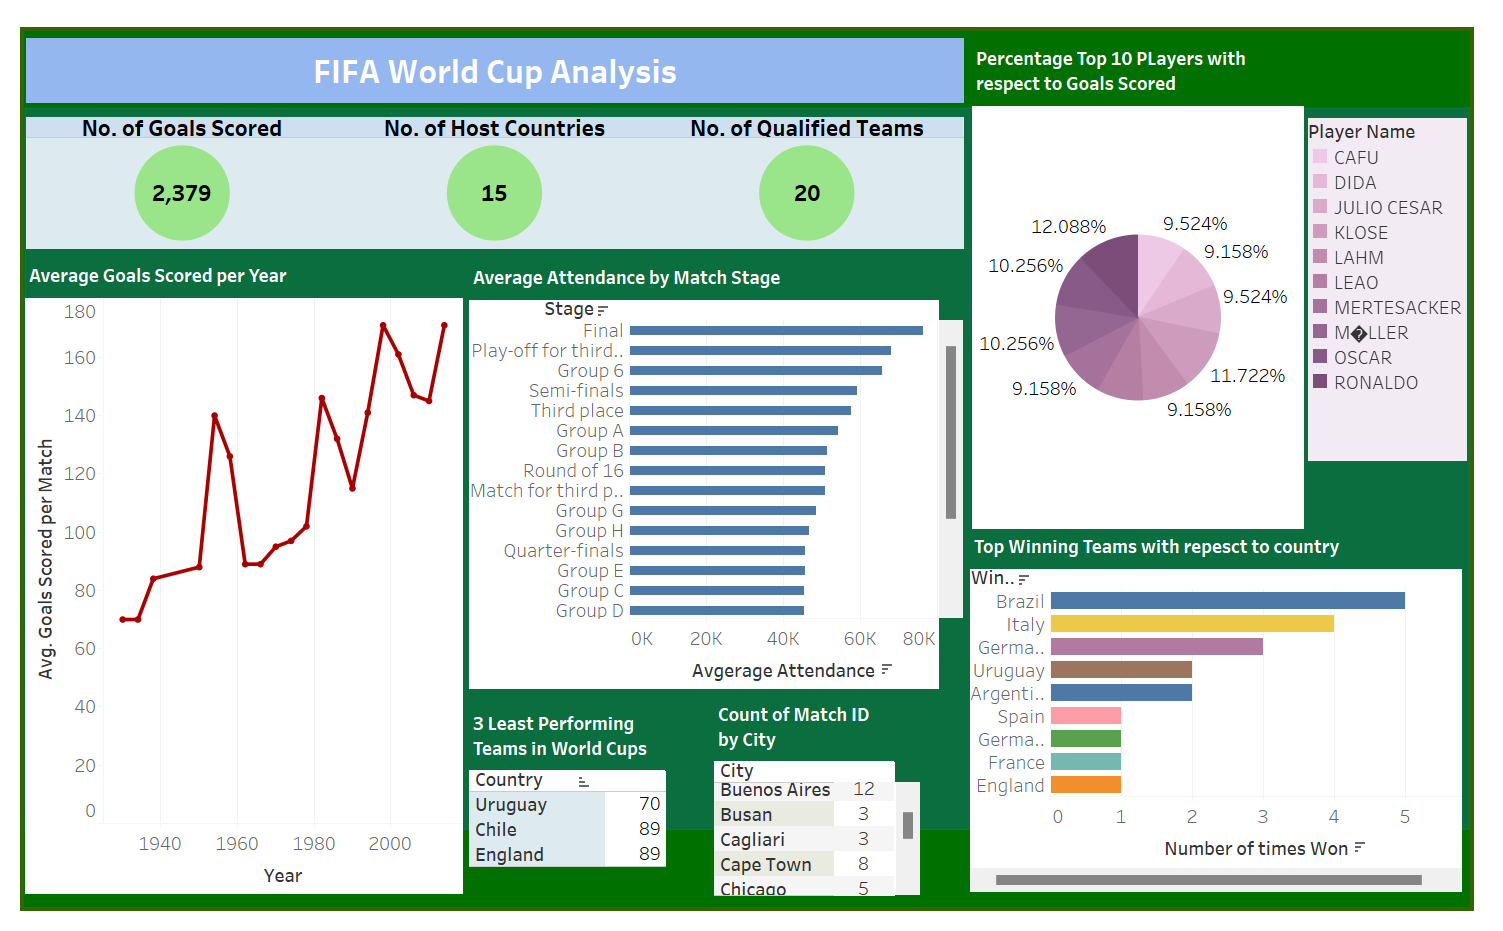

Layout of this report page (visuals, bound fields, positions):
{"tool":"tableau","page":{"name":"Dashboard 1","canvas":[1000,1000],"units":"permille","ordinal":0},"visuals":[{"type":"image","param":"Image/Untitled design (2).png","box":[5.4,10.7,989.1,978.6]},{"type":"text","box":[9.5,21.4,638.1,72.3]},{"type":"worksheet","title":"Top 10 Players with the most Goals Scored","mark":"Pie","box":[653.1,24.1,225.8,542.2]},{"type":"worksheet","title":"KPIs","mark":"Pie","box":[9.5,108.4,638.1,147.3]},{"type":"legend","title":"Top 10 Players with the most Goals Scored","param":"[federated.1c4pxal0dr1bq81e9hkz20u9w5b6].[none:Player Name:nk]","box":[881.6,109.8,108.2,381.5]},{"type":"worksheet","title":"Average Goals Scored per Match by Year","mark":"Automatic","rows":["GoalsScored"],"cols":["Year"],"box":[8.8,265.1,298,706.8]},{"type":"worksheet","title":"Average Attendance by Match State","mark":"Automatic","rows":["Stage"],"cols":["Attendance (WorldCupMatches.csv)"],"box":[310.9,267.7,336.1,476.6]},{"type":"worksheet","title":"Distribution of Top Winning Teams with rspect to Country","mark":"Bar","rows":["Winner"],"cols":["Winner"],"box":[651,579.6,338.8,390.9]},{"type":"worksheet","title":"3 Least Performing Teams in World Cups","mark":"Automatic","rows":["Country"],"box":[310.2,752.3,137.4,223.6]},{"type":"worksheet","title":"Count of Match ID by City","mark":"Automatic","rows":["City"],"box":[447.6,763.1,183.7,204.8]}]}

Visuals, with their boxes on the dashboard's canvas, which has no fixed pixel size, in thousandths of its width and height (x1, y1, x2, y2). These are canvas units, not pixel positions in the 1503x931 screenshot, which may show the page scaled, cropped or inside an application window:
image: 5 11 994 989
text: 10 21 648 94
"Top 10 Players with the most Goals Scored" worksheet (Pie marks): 653 24 879 566
"KPIs" worksheet (Pie marks): 10 108 648 256
"Top 10 Players with the most Goals Scored" legend: 882 110 990 491
"Average Goals Scored per Match by Year" worksheet: 9 265 307 972
"Average Attendance by Match State" worksheet: 311 268 647 744
"Distribution of Top Winning Teams with rspect to Country" worksheet (Bar marks): 651 580 990 970
"3 Least Performing Teams in World Cups" worksheet: 310 752 448 976
"Count of Match ID by City" worksheet: 448 763 631 968
